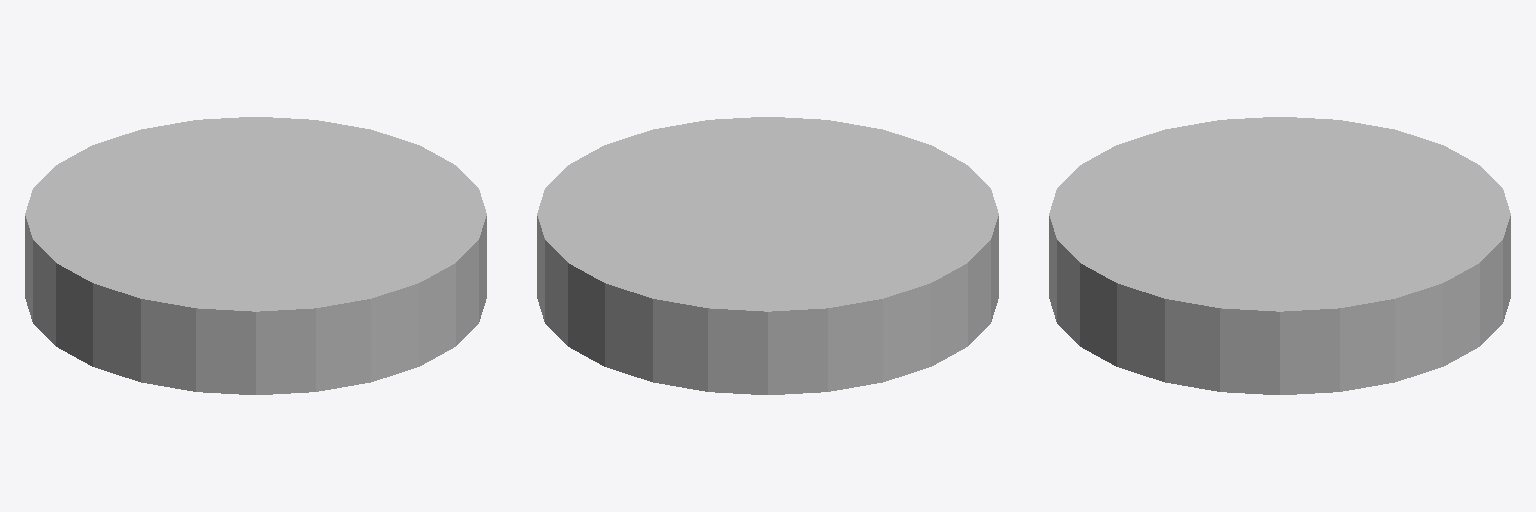
File: original-65.obj
3 views of the same model, side by side, from view 1: azimuth 30°, elevation 25°; view 2: azimuth 150°, elevation 25°; view 3: azimuth 270°, elevation 25° (orthographic).
Parts seen in each view (by area): view 1: #ID435; view 2: #ID435; view 3: #ID435.
Part boxes in pixels (bbox=[...]): #ID435: bbox=[25, 117, 486, 394]; #ID435: bbox=[537, 117, 998, 394]; #ID435: bbox=[1049, 117, 1510, 394].
Bounding box in the file's own units: 0.0752 × 0.015 × 0.0752.